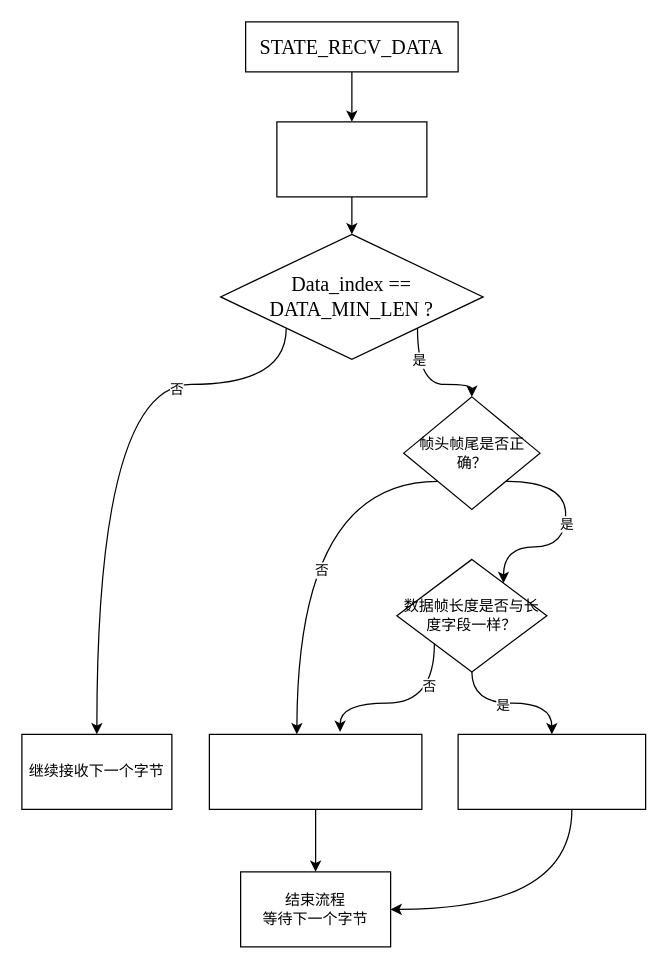
Some shapes in this 668 by 969 pixel diagram are drawn without their labels. Each missing label, with the box of its shape:
存储该字节 Data_index++: (276, 121, 427, 197)
当前数据帧可用 ESP32_Tx_Flag=1 ，记录 Data_Len: (457, 733, 646, 809)
数据错误，判定乱码 切换回 STATE_WAIT_EADER: (208, 733, 422, 809)
